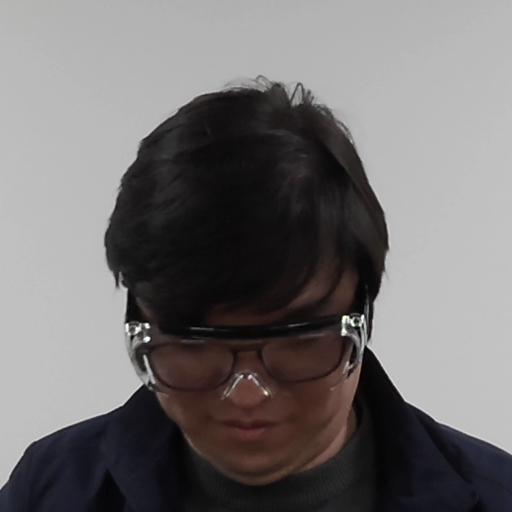glasses: (99, 84, 387, 485)
